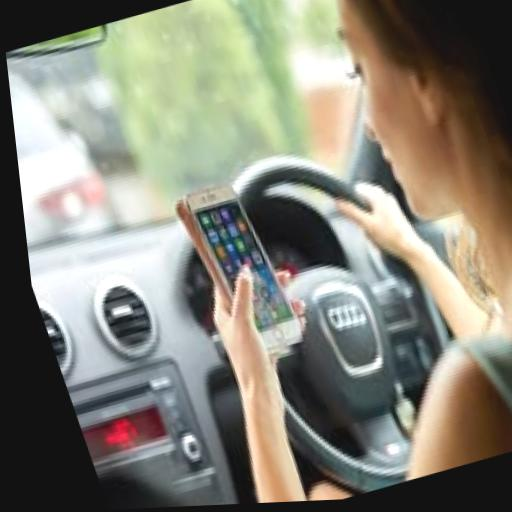Hands-on-the-Wheel: (329, 172, 423, 277)
